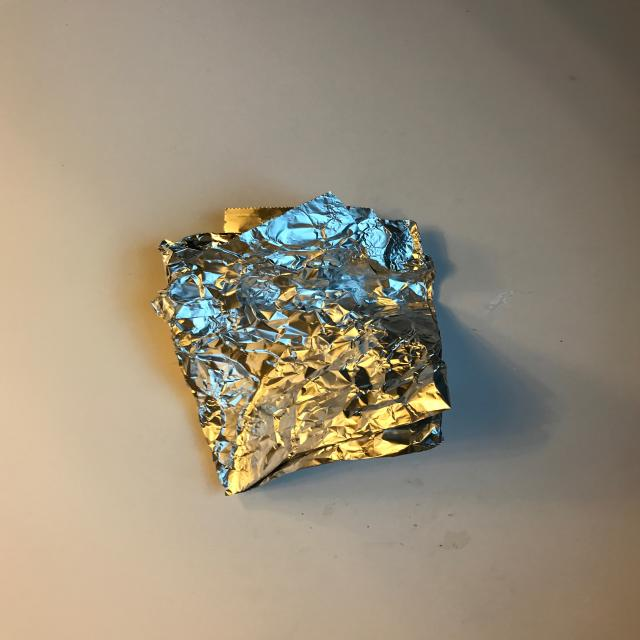metal: (151, 191, 452, 496)
